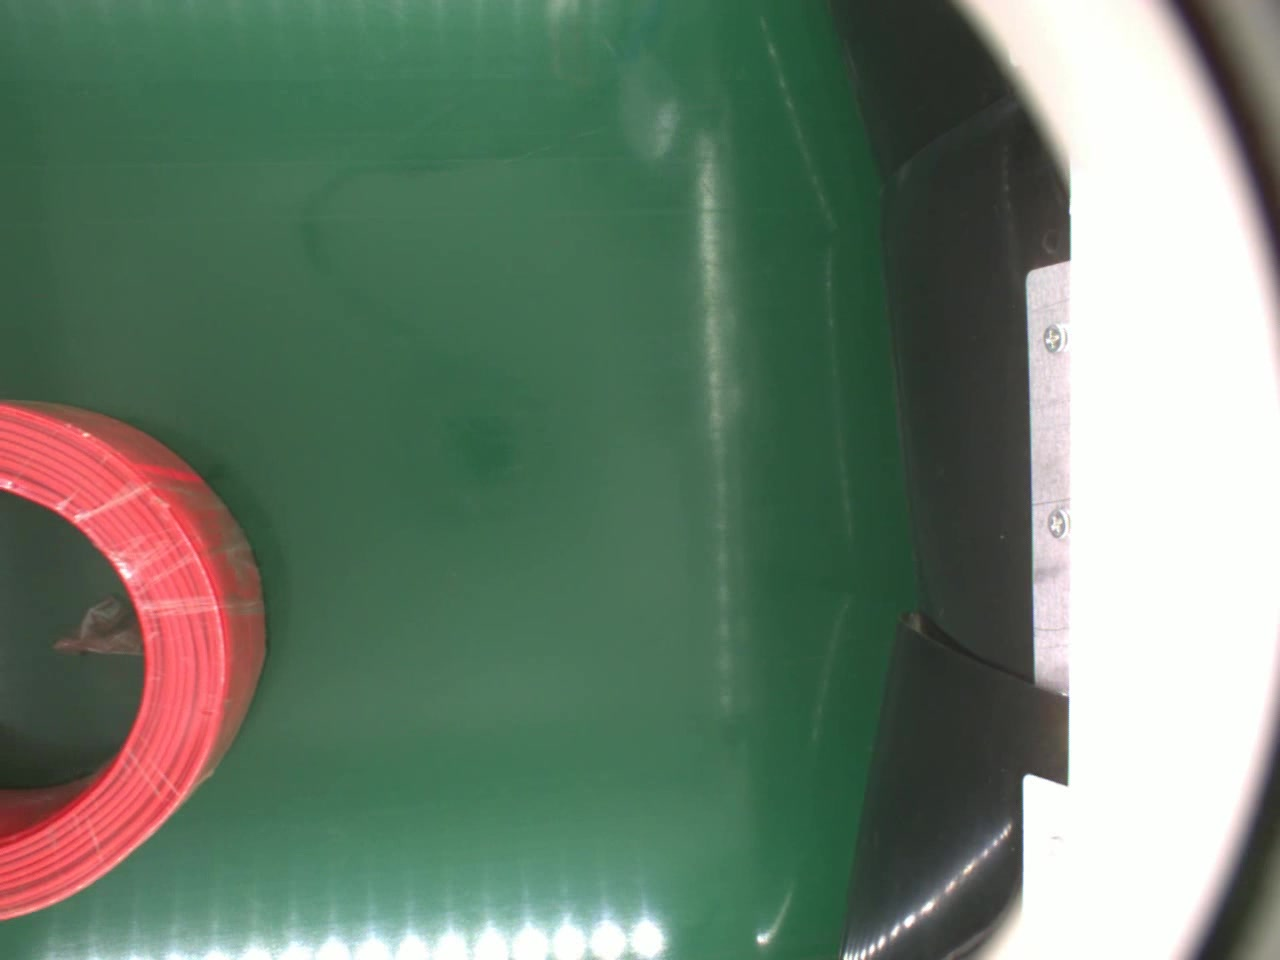red: (0, 396, 266, 924)
